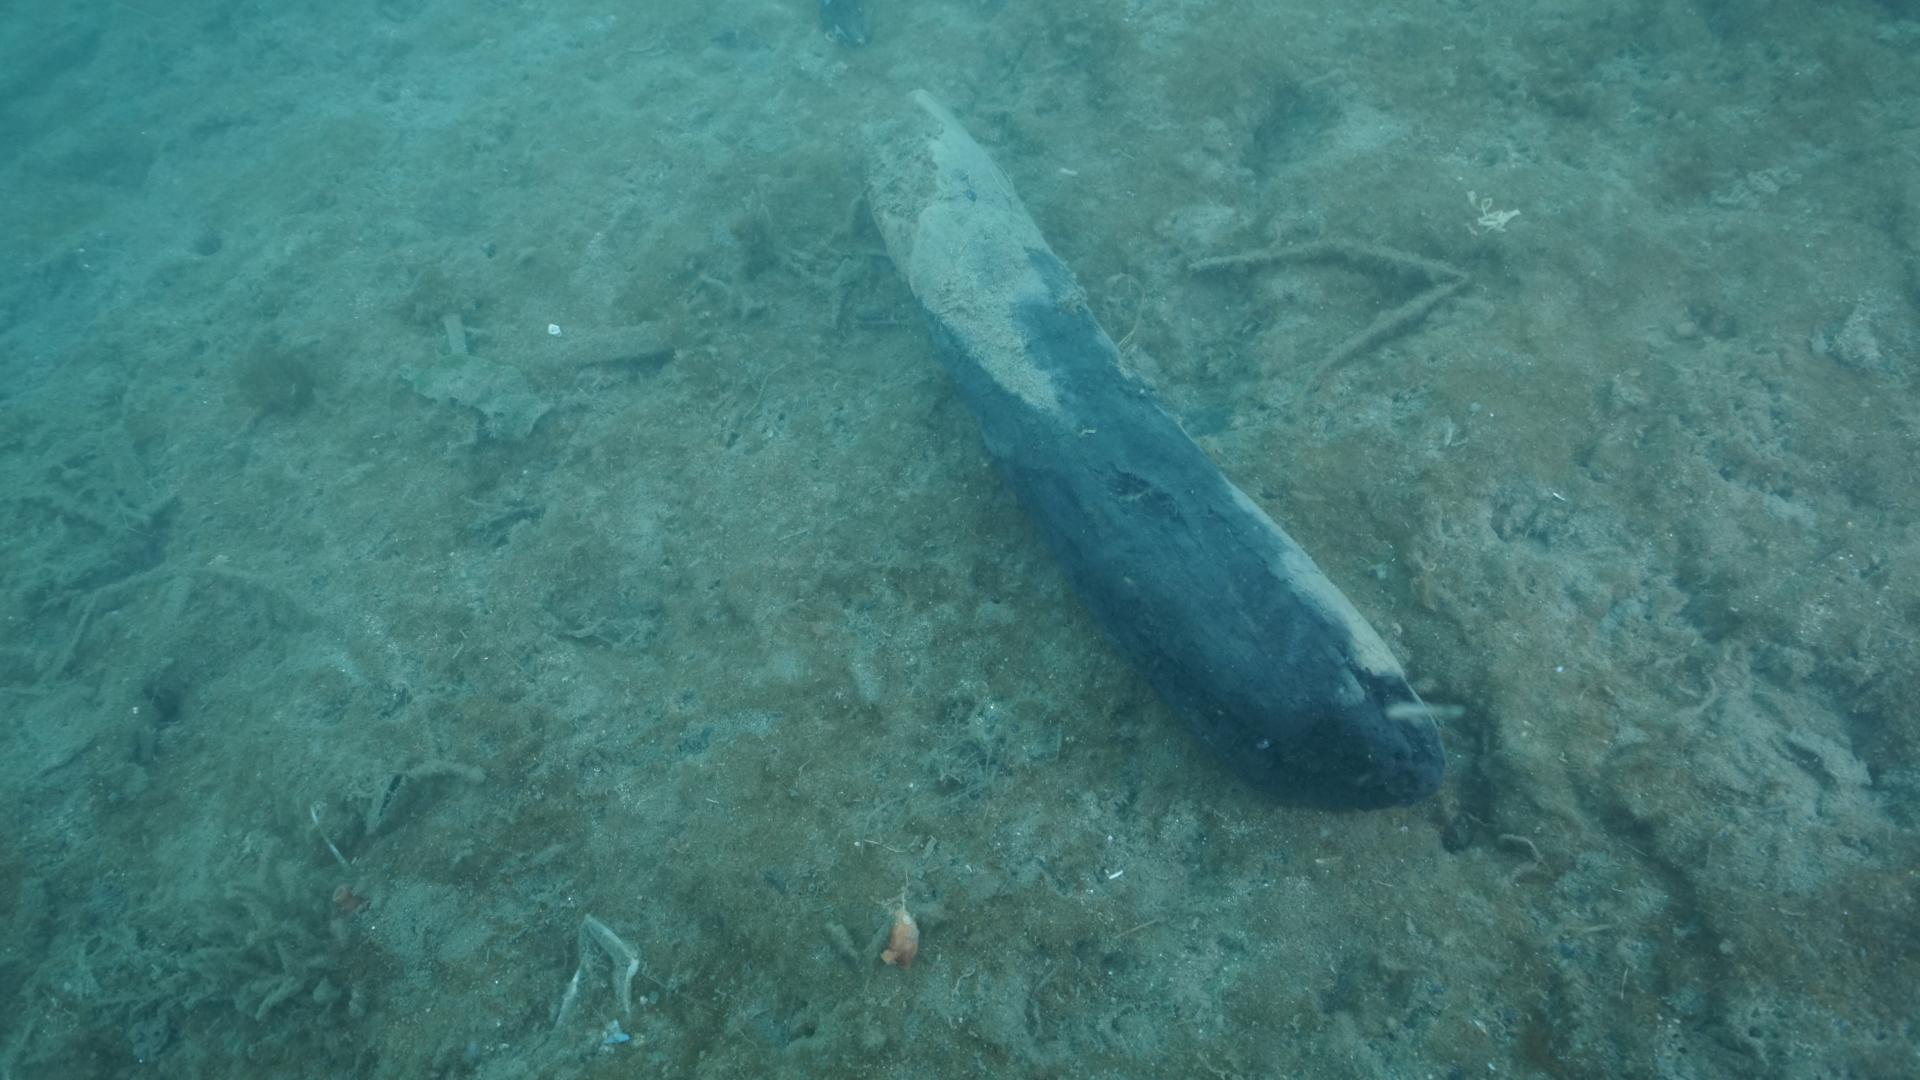wood: (851, 76, 1445, 812)
